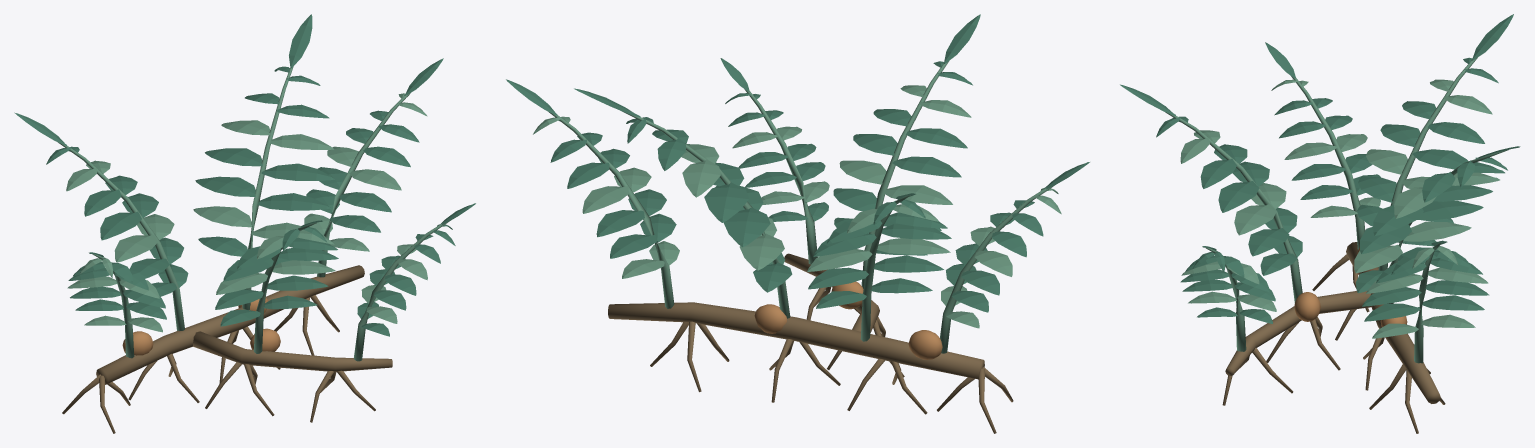
File: rebuilt.glb
The picture shows the model from 3 angles, left to right: view 1: azimuth 30°, elevation 25°; view 2: azimuth 150°, elevation 25°; view 3: azimuth 270°, elevation 25°; orthographic projection. The views are drawn at different scales.
Visible parts, largest first — view 1: pinnae, pinnae-light, rhizome, rachides, roots, sporocarps; view 2: pinnae, pinnae-light, rhizome, rachides, roots, sporocarps; view 3: pinnae, pinnae-light, rachides, rhizome, roots, sporocarps.
Boxes of the visible parts, <box> form: pinnae: <box>14,14,475,336</box>; pinnae-light: <box>66,93,427,332</box>; rhizome: <box>96,265,392,384</box>; rachides: <box>58,66,449,361</box>; roots: <box>62,295,375,433</box>; sporocarps: <box>122,297,280,355</box>; pinnae: <box>506,14,1089,312</box>; pinnae-light: <box>533,85,1061,328</box>; rhizome: <box>608,253,984,379</box>; rachides: <box>549,61,1054,353</box>; roots: <box>650,286,1013,433</box>; sporocarps: <box>754,281,942,359</box>; pinnae: <box>1120,14,1520,323</box>; pinnae-light: <box>1180,79,1499,338</box>; rachides: <box>1165,57,1508,363</box>; rhizome: <box>1225,242,1440,403</box>; roots: <box>1222,254,1445,433</box>; sporocarps: <box>1294,247,1407,327</box>.
Bounding box in the file's own units: 0.1319 × 0.08 × 0.0976.
